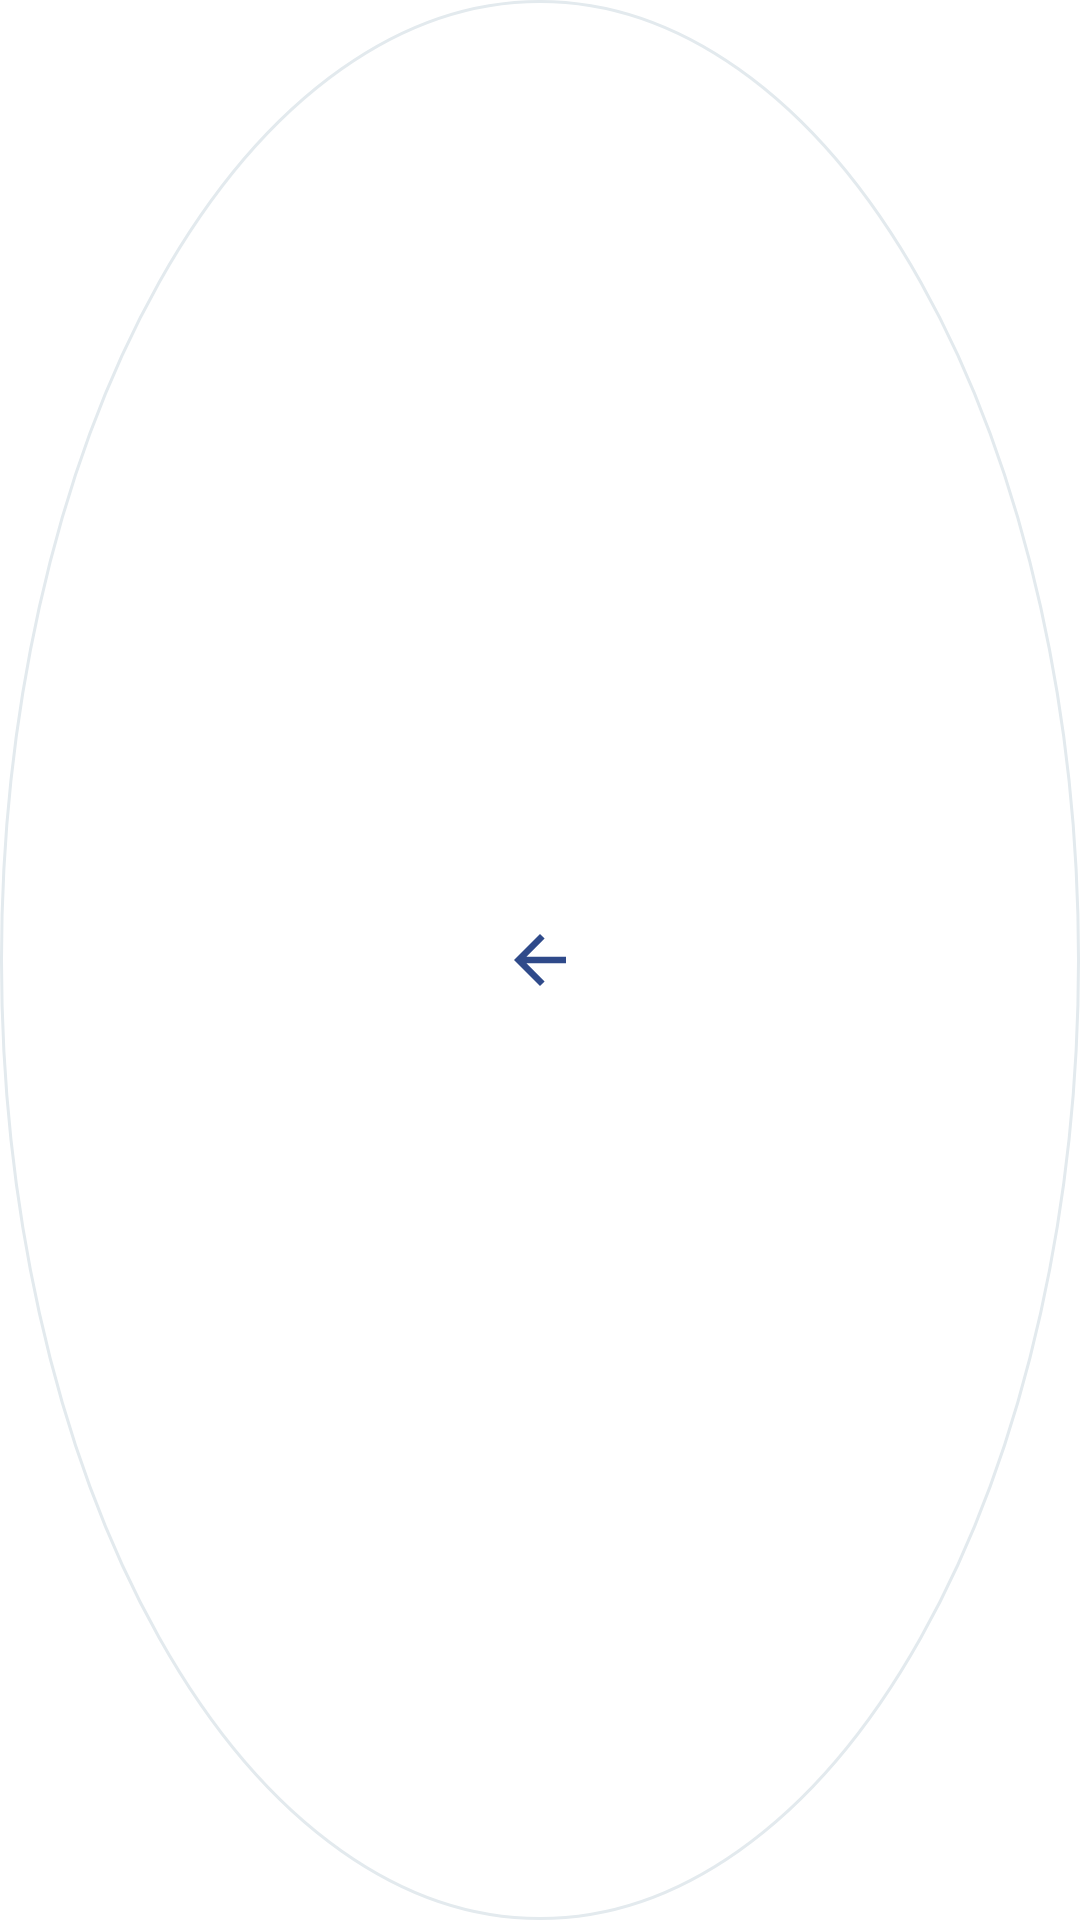

Icon bounding boxes for this 1080×1920 phone screenshot, format (x1, y1, x2, y2):
back: (514, 934, 566, 986)
